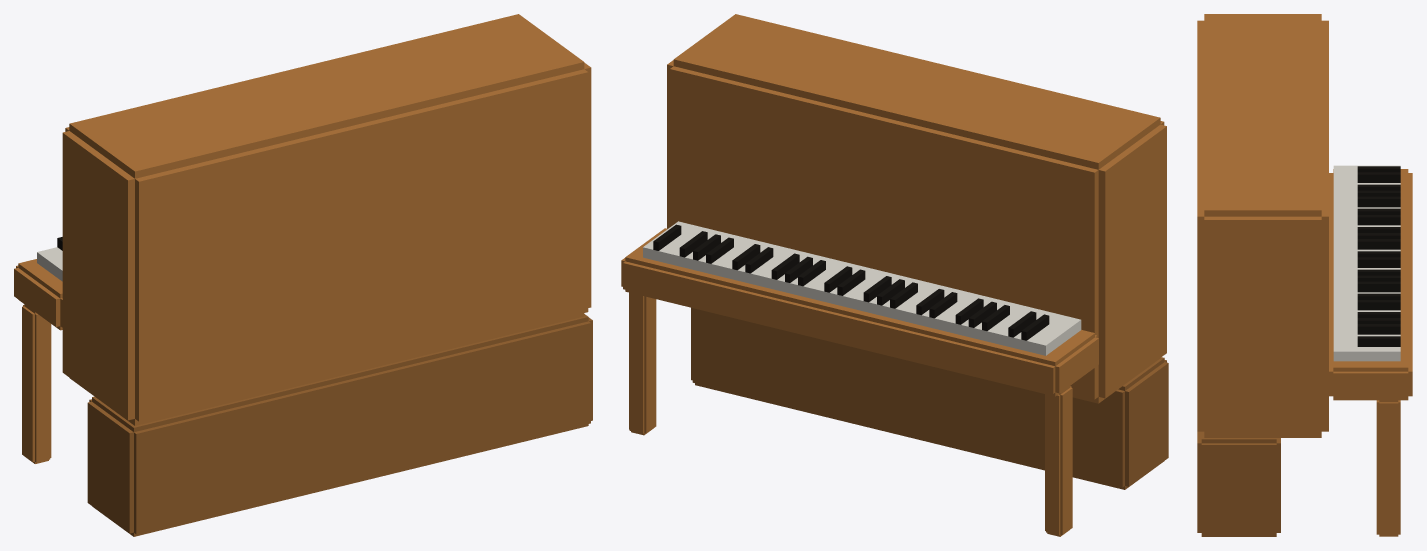
File: lihzahrd_piano_v0.glb
The picture shows the model from 3 angles, left to right: view 1: azimuth 30°, elevation 25°; view 2: azimuth 150°, elevation 25°; view 3: azimuth 270°, elevation 25°; orthographic projection. The views are drawn at different scales.
Parts seen in each view (by area): view 1: lihzahrd_piano_v0; view 2: lihzahrd_piano_v0; view 3: lihzahrd_piano_v0.
Boxes of the visible parts, x1,y1,x2,y2 form: lihzahrd_piano_v0: (14,14,592,536); lihzahrd_piano_v0: (621,14,1168,536); lihzahrd_piano_v0: (1197,14,1412,536).
Size of the model in its own units: 2 by 1.5 by 0.9.
